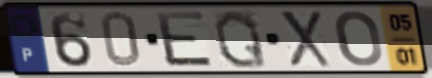0: (98, 9, 144, 70)
6: (47, 10, 95, 69)
E: (153, 10, 217, 69)
O: (332, 9, 385, 69)
Q: (211, 8, 270, 70)
X: (277, 9, 334, 69)
